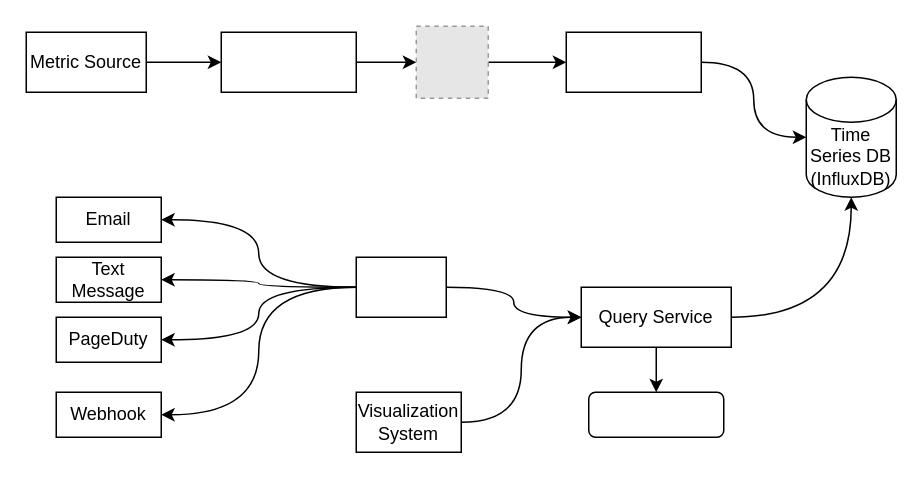
Some shapes in this 923 by 479 pixel diagram are drawn without their labels. Grey dashed boxes stand in for pictures. Each missing label, with the box of its shape:
Alerting System: (355, 256, 446, 317)
Cache: (587, 391, 724, 437)
Metric Collector: (220, 31, 356, 92)
Processing: (565, 31, 701, 92)
